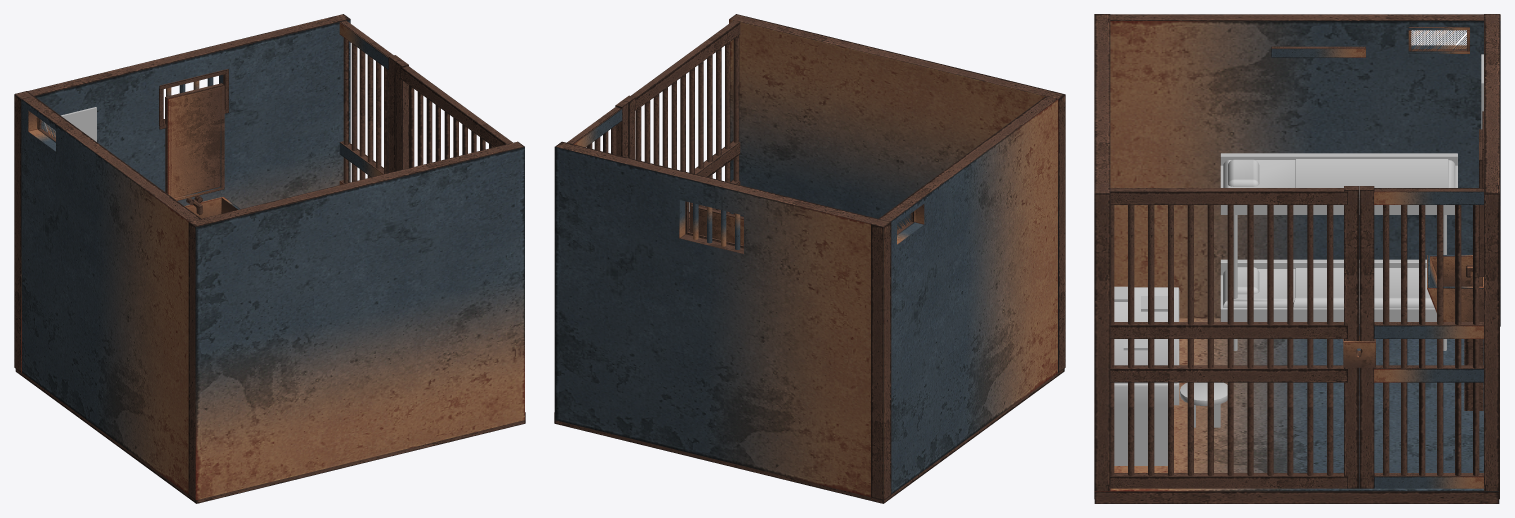
Rendered from Prison cell.fbx.
3 renders of one model, left to right at view 1: azimuth 30°, elevation 25°; view 2: azimuth 150°, elevation 25°; view 3: azimuth 270°, elevation 25°, orthographic. The views are drawn at different scales.
Visible parts, largest first — view 1: pCube39.001, pCube48, pCube39, pCylinder21, pCube22, pCube20, pCube1, pCylinder29, pCube25; view 2: pCube39, pCube48, pCube39.001, pCube20, pCube1, pCylinder21, pCube22; view 3: pCube48, pCube20, pCube1, pCylinder21, pCube45, pCube4, pCube39.001, pCube39, pCube7, pCylinder29, pCube9, pCube52 (+4 smaller).
Boxes of the visible parts, x1=… form: pCube39.001: x1=188, y1=141, x2=524, y2=500; pCube48: x1=15, y1=91, x2=200, y2=494; pCube39: x1=14, y1=14, x2=350, y2=372; pCylinder21: x1=339, y1=20, x2=401, y2=184; pCube22: x1=165, y1=83, x2=224, y2=200; pCube20: x1=395, y1=60, x2=512, y2=171; pCube1: x1=15, y1=369, x2=525, y2=503; pCylinder29: x1=184, y1=195, x2=240, y2=218; pCube25: x1=44, y1=107, x2=96, y2=141; pCube39: x1=554, y1=141, x2=891, y2=500; pCube48: x1=871, y1=96, x2=1057, y2=500; pCube39.001: x1=729, y1=14, x2=1065, y2=372; pCube20: x1=622, y1=20, x2=740, y2=231; pCube1: x1=554, y1=368, x2=1064, y2=503; pCylinder21: x1=567, y1=100, x2=628, y2=157; pCube22: x1=690, y1=204, x2=743, y2=245; pCube48: x1=1110, y1=14, x2=1500, y2=326; pCube20: x1=1110, y1=186, x2=1358, y2=488; pCube1: x1=1094, y1=318, x2=1499, y2=503; pCylinder21: x1=1343, y1=186, x2=1483, y2=488; pCube45: x1=1220, y1=153, x2=1457, y2=214; pCube4: x1=1220, y1=259, x2=1436, y2=323; pCube39.001: x1=1094, y1=14, x2=1110, y2=498; pCube39: x1=1482, y1=14, x2=1499, y2=499; pCube7: x1=1114, y1=287, x2=1179, y2=405; pCylinder29: x1=1427, y1=255, x2=1483, y2=410; pCube9: x1=1114, y1=405, x2=1167, y2=465; pCube52: x1=1408, y1=27, x2=1469, y2=53.
Bounding box in the file's own units: 6.32 × 5.09 × 6.02.
